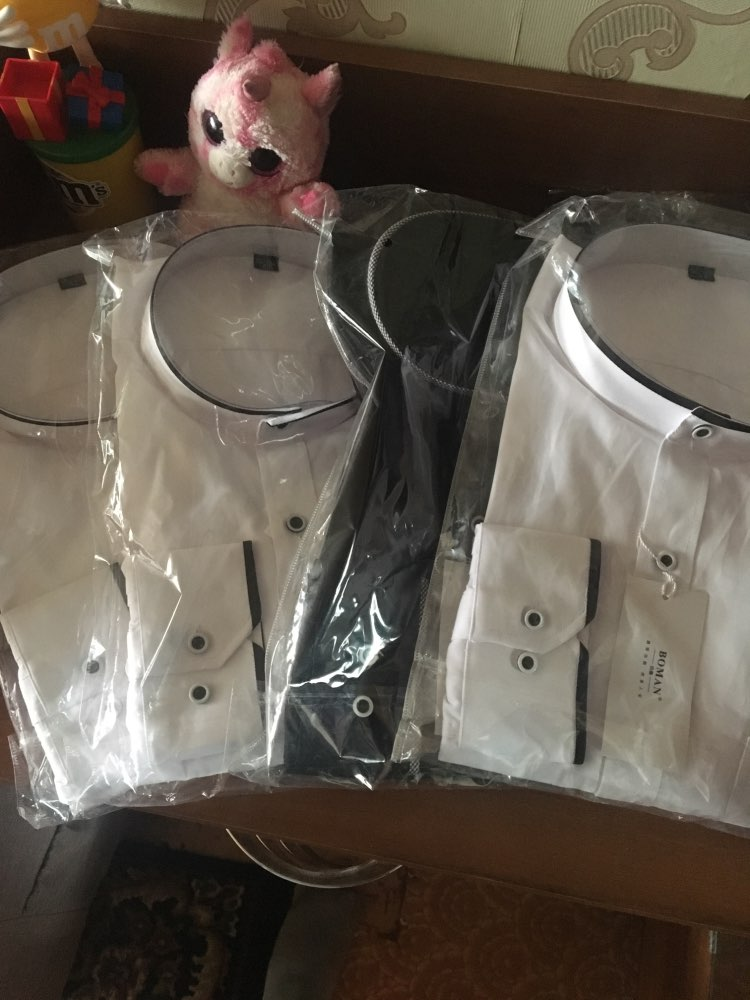shirts: (90, 253, 522, 786), (318, 214, 664, 802), (464, 220, 750, 815), (15, 239, 289, 806)
